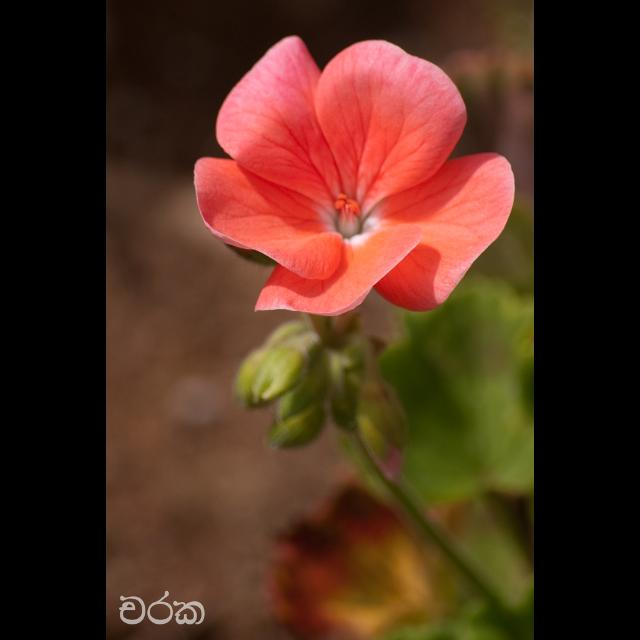Flower: (190, 42, 500, 328)
